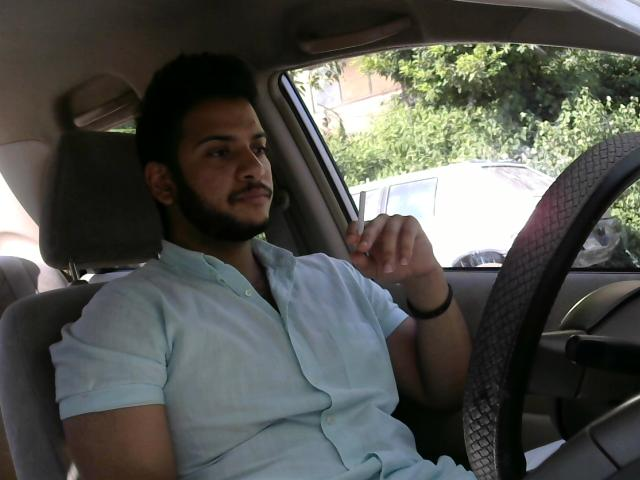Smoking: (353, 189, 369, 270)
